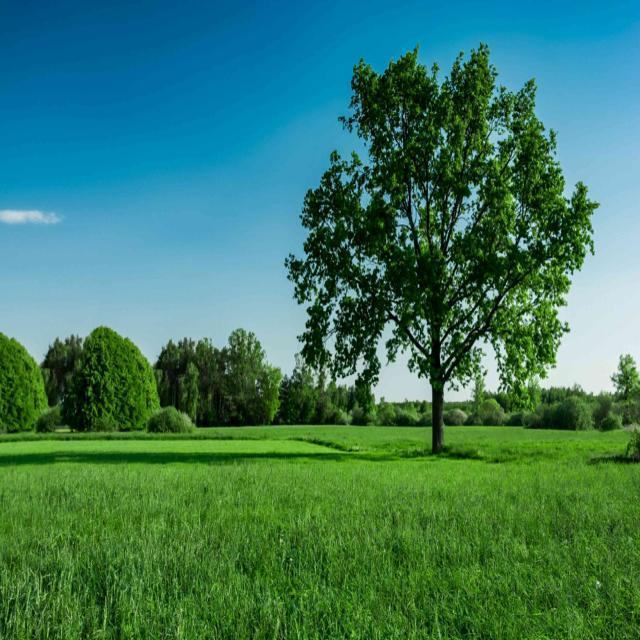tree: (290, 36, 602, 463), (78, 302, 162, 442), (216, 320, 286, 428), (0, 314, 56, 442), (157, 334, 222, 434), (38, 330, 92, 432), (604, 344, 640, 432), (513, 366, 550, 434), (548, 392, 594, 435), (343, 376, 380, 426), (320, 378, 356, 428), (288, 366, 318, 424), (179, 362, 204, 424), (306, 374, 334, 424), (593, 390, 626, 430), (480, 388, 512, 428), (381, 399, 426, 424), (446, 399, 477, 426), (423, 406, 450, 426)
